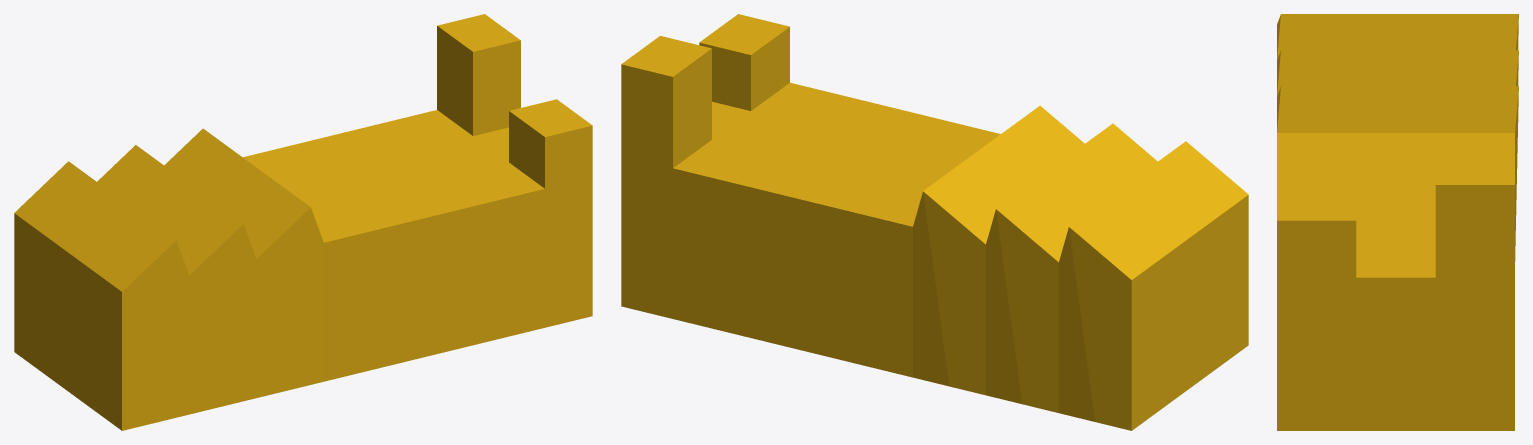
Rendered from factoryB.fbx.
3 renders of one model, left to right at view 1: azimuth 30°, elevation 25°; view 2: azimuth 150°, elevation 25°; view 3: azimuth 270°, elevation 25°, orthographic. The views are drawn at different scales.
Visible parts, largest first — view 1: Cube.005; view 2: Cube.005; view 3: Cube.005.
Part boxes in pixels (x1=…): Cube.005: x1=14, y1=14, x2=592, y2=430; Cube.005: x1=621, y1=14, x2=1248, y2=430; Cube.005: x1=1277, y1=14, x2=1518, y2=430.
Size of the model in its own units: 866 by 392 by 349.
